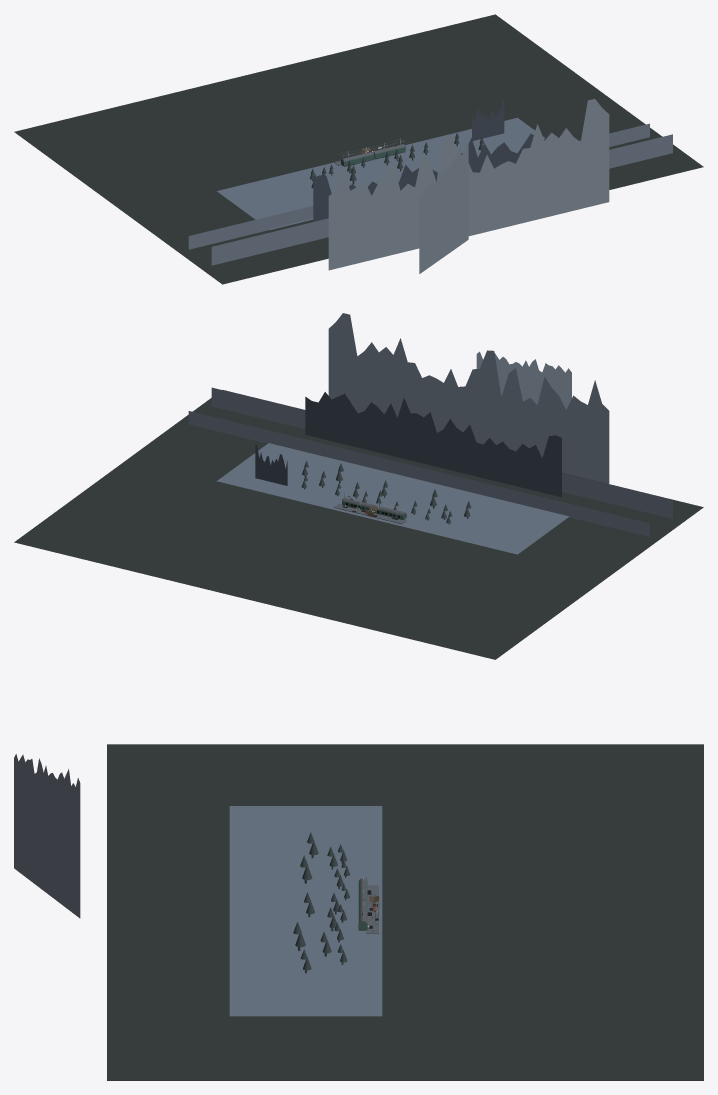
Rendered from estacion_jutsu.glb.
3 views of the same model, one above another, from view 1: azimuth 30°, elevation 25°; view 2: azimuth 150°, elevation 25°; view 3: azimuth 270°, elevation 25° (orthographic). The views are drawn at different scales.
Visible parts, largest first — view 1: ENV_ground, ENV_ridge_far, ENV_fogground, ENV_ridge_corner, ENV_fogbank2, ENV_fogbank, ENV_ridge_mid, ENV_ridge_sideR; view 2: ENV_ground, ENV_ridge_far, ENV_fogground, ENV_ridge_mid, ENV_fogbank, ENV_fogbank2, ENV_ridge_corner, ENV_ridge_sideR; view 3: ENV_ground, ENV_fogground, ENV_ridge_corner.
Part boxes in pixels (box(x1,y1,x2,y2)): ENV_ground: box(14, 14, 703, 284); ENV_ridge_far: box(328, 99, 609, 270); ENV_fogground: box(217, 118, 544, 229); ENV_ridge_corner: box(419, 143, 468, 273); ENV_fogbank2: box(211, 134, 672, 265); ENV_fogbank: box(188, 123, 649, 249); ENV_ridge_mid: box(313, 132, 550, 221); ENV_ridge_sideR: box(472, 100, 504, 140); ENV_ground: box(14, 390, 703, 659); ENV_ridge_far: box(328, 313, 609, 483); ENV_fogground: box(217, 443, 569, 554); ENV_ridge_mid: box(305, 392, 561, 497); ENV_fogbank: box(188, 411, 649, 536); ENV_fogbank2: box(211, 387, 672, 518); ENV_ridge_corner: box(476, 351, 571, 409); ENV_ridge_sideR: box(255, 444, 287, 485); ENV_ground: box(107, 744, 703, 1080); ENV_fogground: box(229, 806, 382, 1016); ENV_ridge_corner: box(14, 754, 80, 918).
Size of what is drawn, in the model's own units: 240 by 50.92 by 208.
